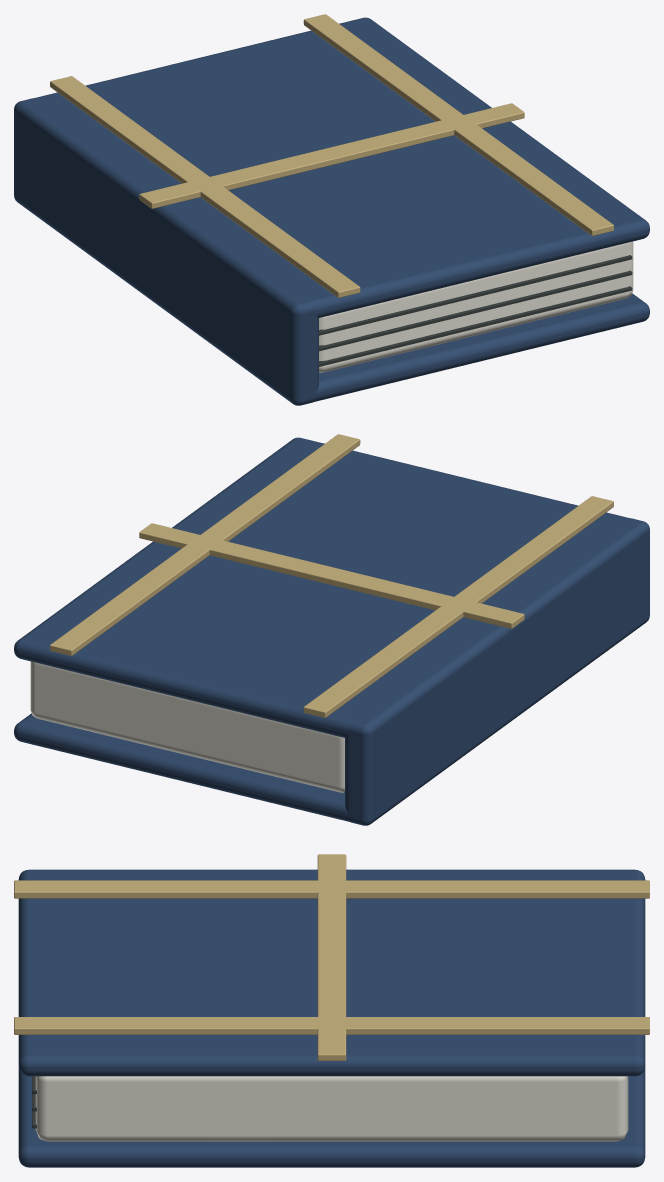
File: city-courthouse-and-records-office-city-courthouse-and-c31cb5b1__30978.glb
3 views of the same model, one above another, from view 1: azimuth 30°, elevation 25°; view 2: azimuth 150°, elevation 25°; view 3: azimuth 270°, elevation 25° (orthographic). The views are drawn at different scales.
Visible parts, largest first — view 1: city-courthouse-and-records-office-document-bundle; view 2: city-courthouse-and-records-office-document-bundle; view 3: city-courthouse-and-records-office-document-bundle.
Part boxes in pixels (left/top/right/bottom): city-courthouse-and-records-office-document-bundle: left=14, top=14, right=649, bottom=405; city-courthouse-and-records-office-document-bundle: left=14, top=434, right=649, bottom=825; city-courthouse-and-records-office-document-bundle: left=14, top=854, right=649, bottom=1167.
Bounding box in the file's own units: 0.25 × 0.07 × 0.335.
